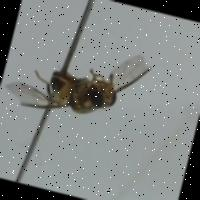Oriental-fruit-fly: (0, 9, 165, 146)
